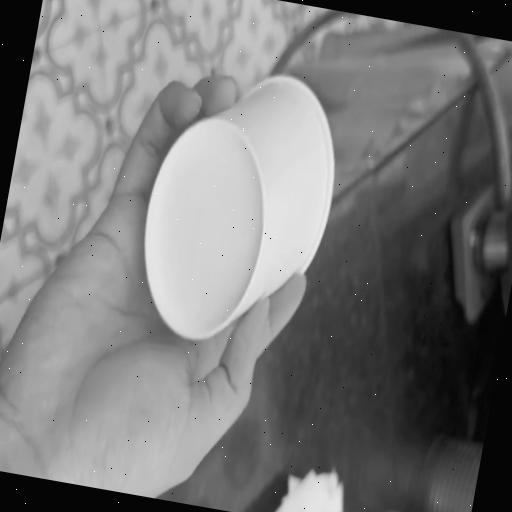Ly_giay: (144, 77, 333, 339)
